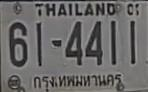1: (110, 20, 116, 64), (36, 22, 42, 66), (130, 20, 134, 64)
4: (85, 20, 104, 66), (65, 20, 83, 66)
6: (8, 21, 29, 68)
BKK: (32, 71, 124, 90)
